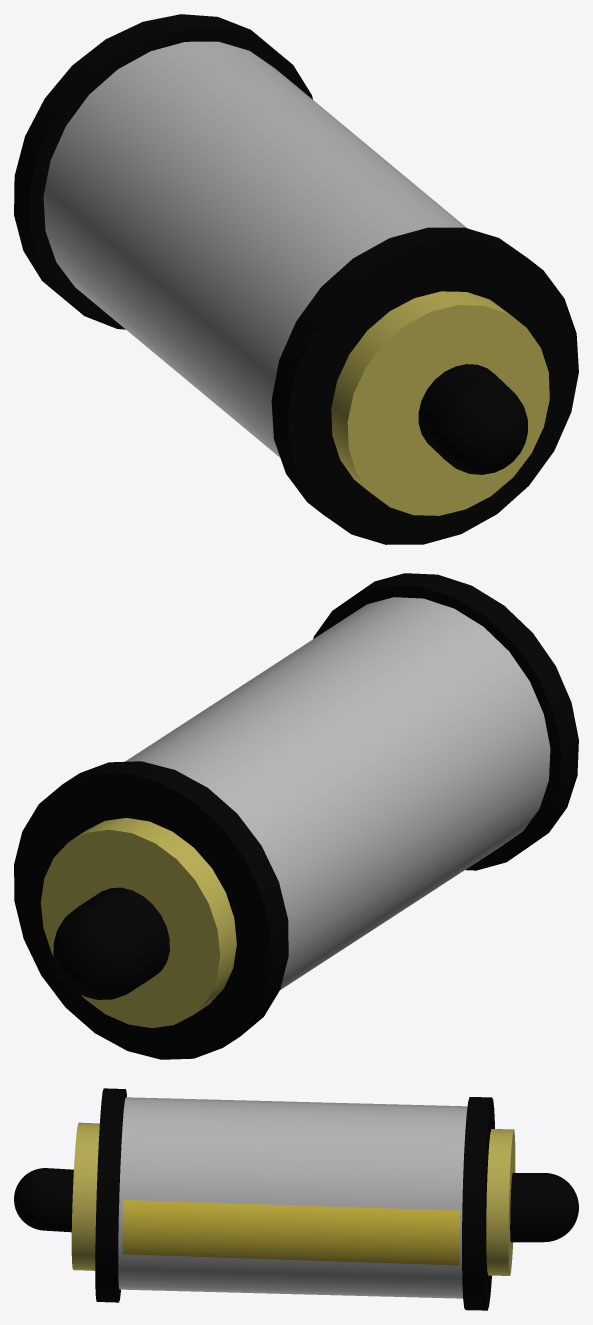
File: word puzzle lock without word cylanders.fbx
3 views of the same model, one above another, from view 1: azimuth 30°, elevation 25°; view 2: azimuth 150°, elevation 25°; view 3: azimuth 270°, elevation 25° (orthographic). The views are drawn at different scales.
Visible parts, largest first — view 1: b6d53525-8817-44f8-8f1a-5f6d3e2ebc04; view 2: b6d53525-8817-44f8-8f1a-5f6d3e2ebc04; view 3: b6d53525-8817-44f8-8f1a-5f6d3e2ebc04.
Part boxes in pixels (x1,y1,x2,y2): b6d53525-8817-44f8-8f1a-5f6d3e2ebc04: (14, 14, 578, 544); b6d53525-8817-44f8-8f1a-5f6d3e2ebc04: (14, 573, 578, 1059); b6d53525-8817-44f8-8f1a-5f6d3e2ebc04: (14, 1088, 578, 1310).
Size of the model in its own units: 13823 by 12678 by 33578.
